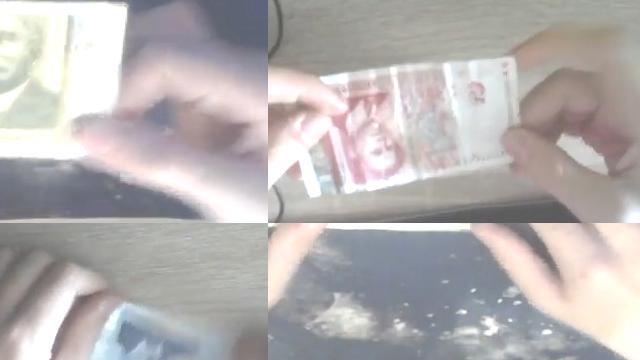10leva: (0, 12, 61, 132)
20leva: (88, 302, 236, 360)
5leva: (304, 56, 517, 194)
